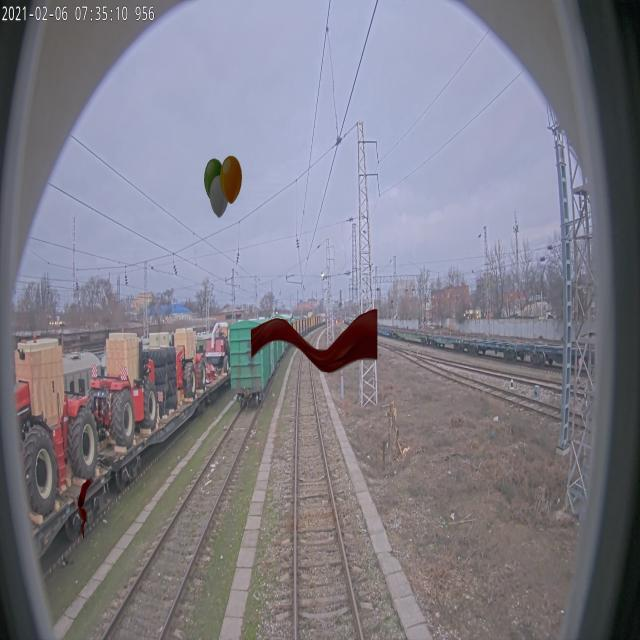balloon: (204, 156, 242, 220)
floating object: (251, 308, 377, 372), (77, 474, 94, 538)
